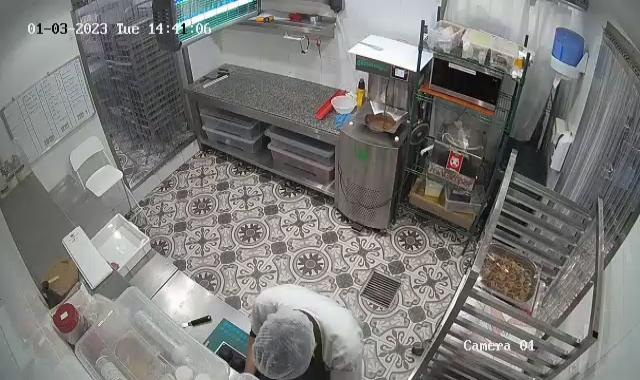hairnet: (251, 305, 317, 379)
